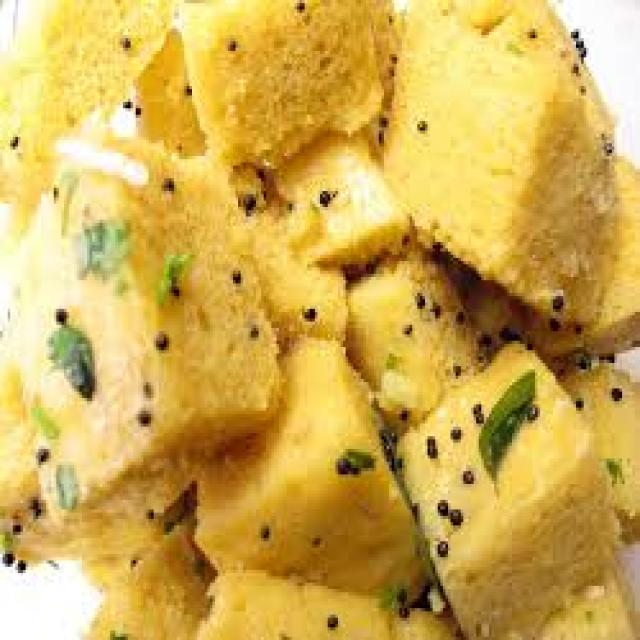DHOKLA: (0, 0, 637, 637)
